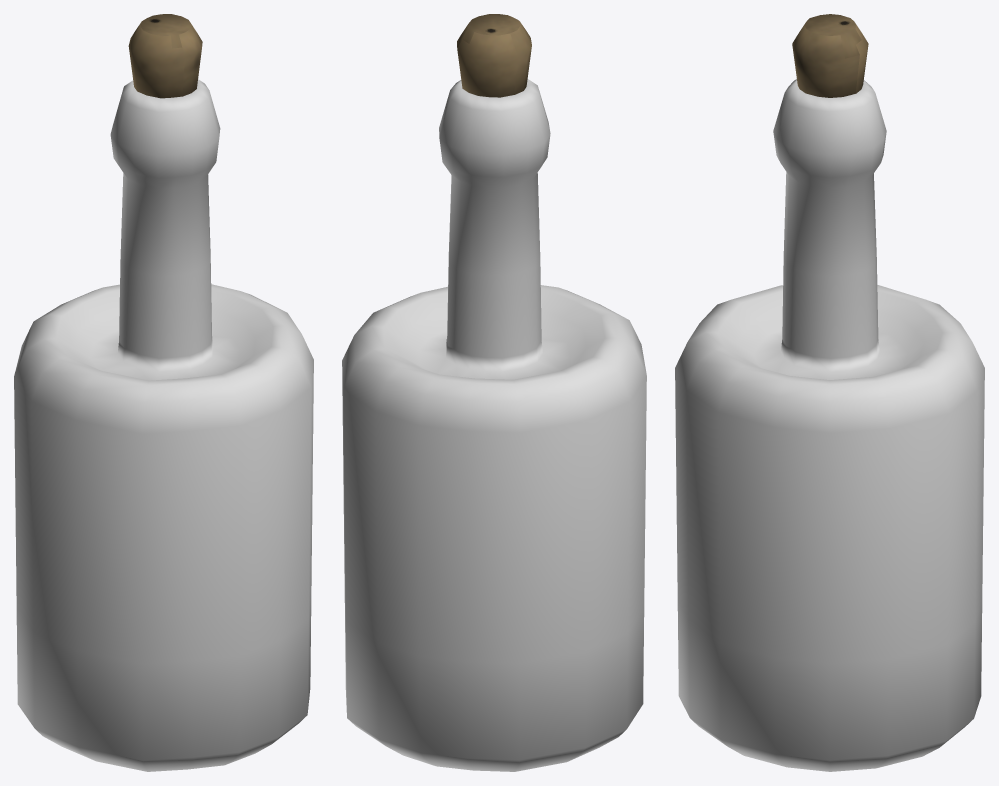
File: Pullo2.fbx
3 views of the same model, side by side, from view 1: azimuth 30°, elevation 25°; view 2: azimuth 150°, elevation 25°; view 3: azimuth 270°, elevation 25° (orthographic).
Parts seen in each view (by area): view 1: Pullo, Korkki; view 2: Pullo, Korkki; view 3: Pullo, Korkki.
Part boxes in pixels (x1,y1,x2,y2): Pullo: (14,79,313,771); Korkki: (128,14,202,98); Pullo: (342,79,646,771); Korkki: (457,14,531,97); Pullo: (675,79,984,771); Korkki: (792,14,868,97).
Bounding box in the file's own units: 146 × 364 × 147.
